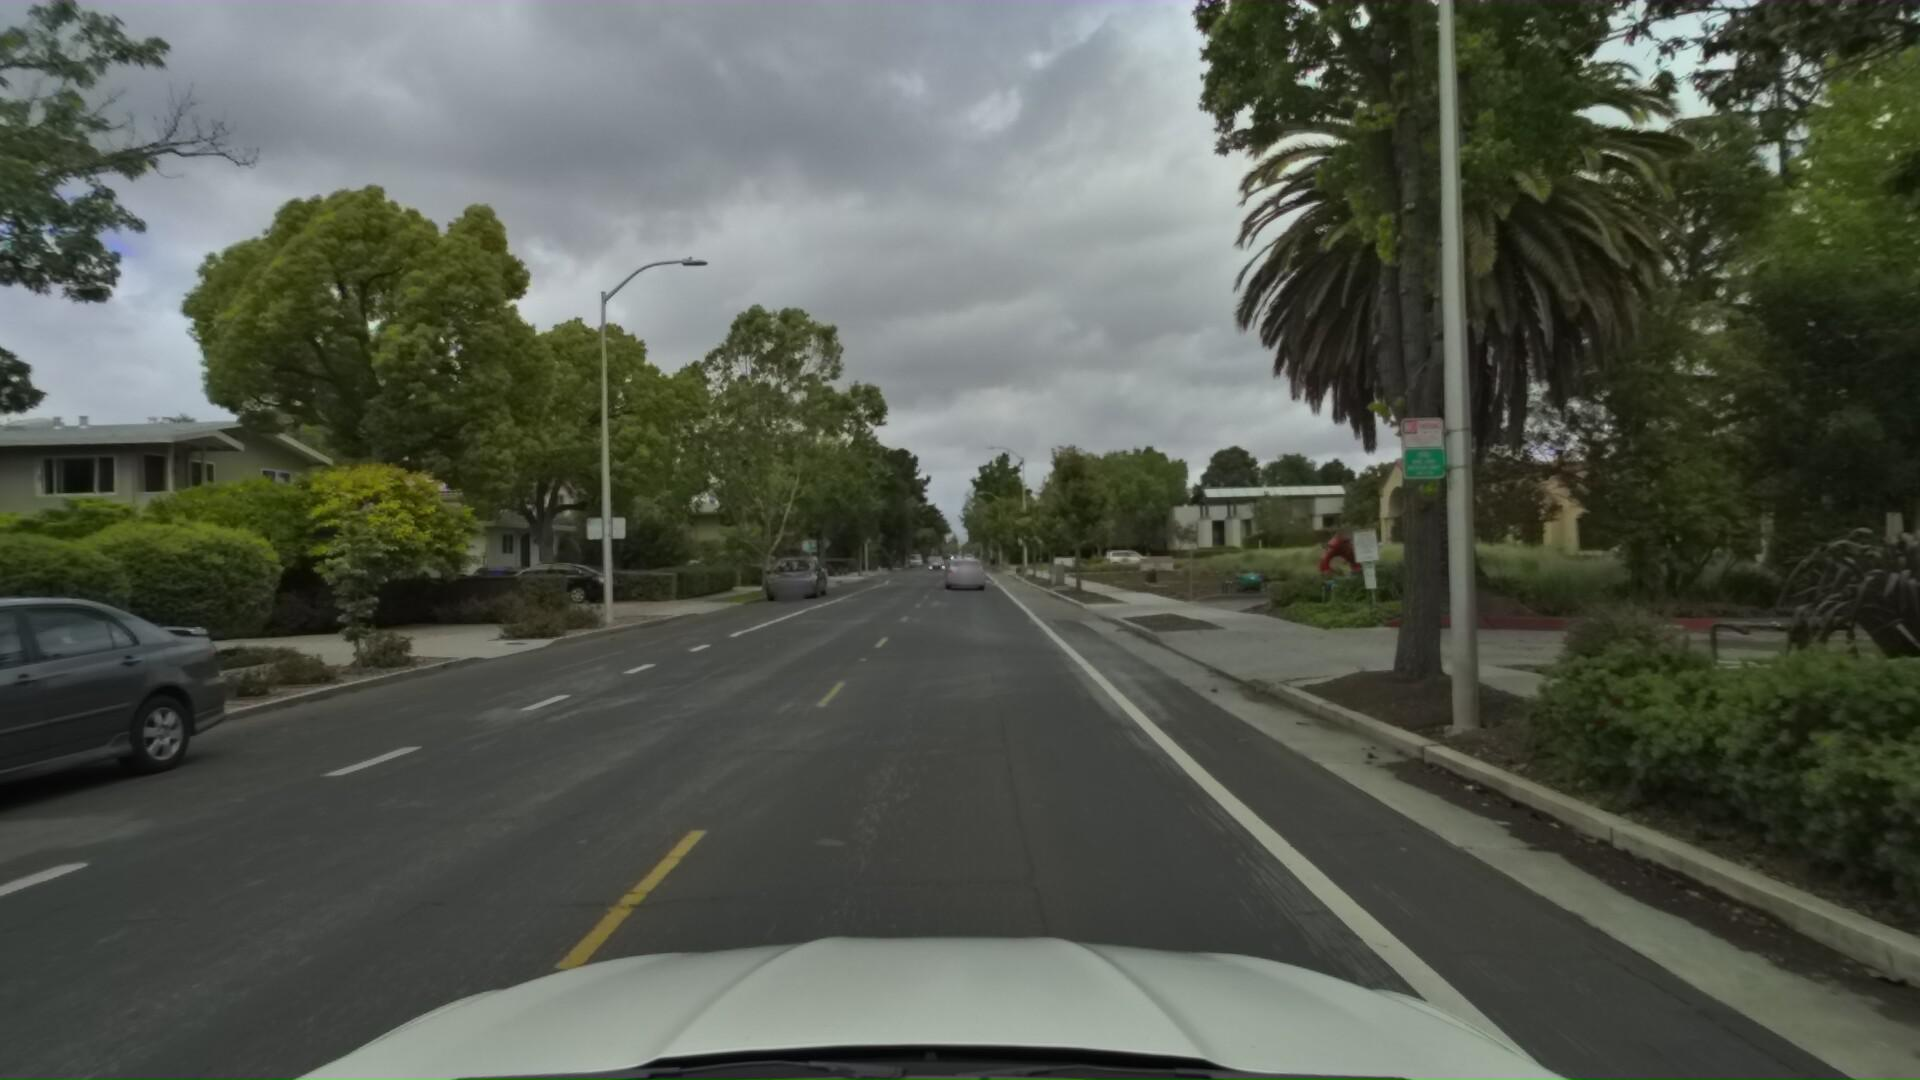car: (0, 582, 231, 973), (476, 554, 621, 603), (762, 546, 831, 595), (939, 551, 982, 593), (1089, 545, 1151, 567)
